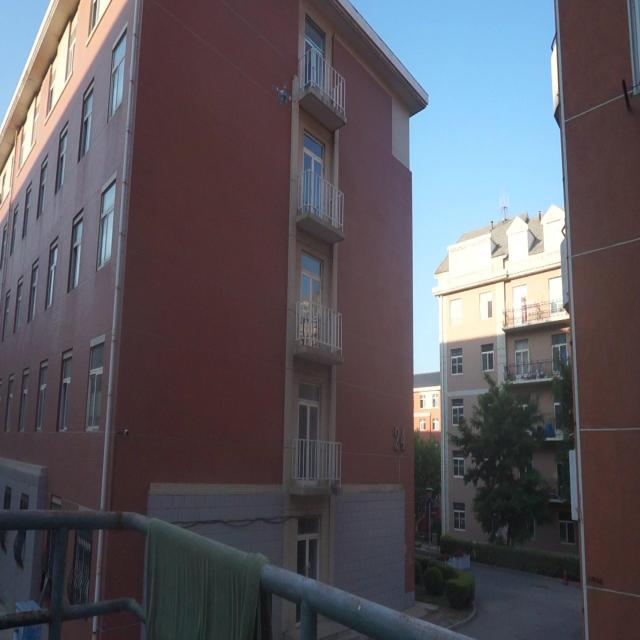UAV: (272, 81, 296, 107)
